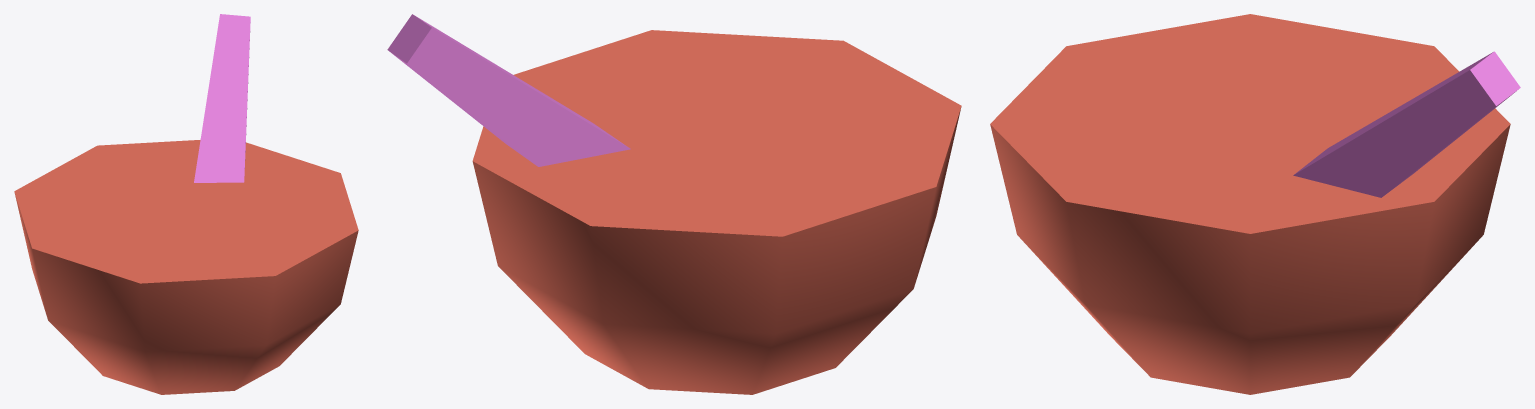
The model's file is MortarPestil.fbx.
3 renders of one model, left to right at view 1: azimuth 30°, elevation 25°; view 2: azimuth 150°, elevation 25°; view 3: azimuth 270°, elevation 25°, orthographic. The views are drawn at different scales.
Parts seen in each view (by area): view 1: MortarPestil; view 2: MortarPestil; view 3: MortarPestil.
Part boxes in pixels (bbox=[...]): MortarPestil: bbox=[14, 14, 358, 394]; MortarPestil: bbox=[387, 14, 961, 394]; MortarPestil: bbox=[990, 14, 1520, 394].
Size of the model in its own units: 54.51 by 42.48 by 55.58.
